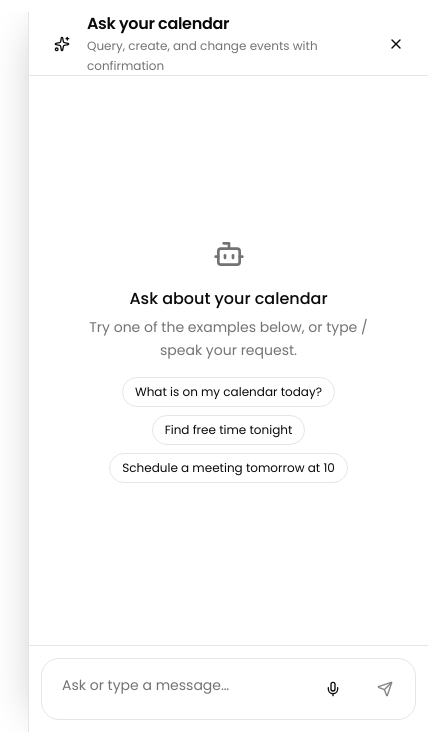
Test: AssistantPanel › does not allow confirming the same action twice
Type "Batalkan Marketing Sync" into the text box with placeholder "Ask or type a message…" at (176,689), box [50,667,303,711]
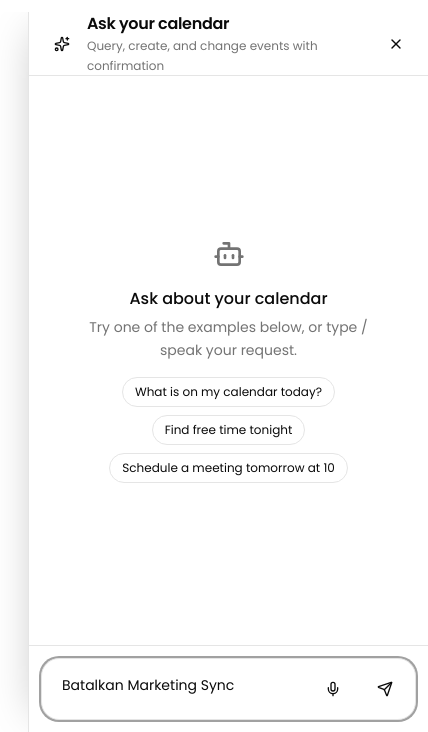
Click the button named "Send" at (385,689), box [363,667,407,711]
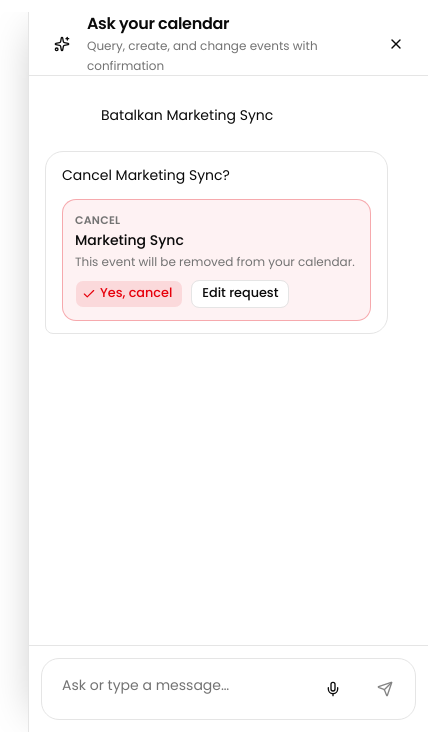
Click the button "Yes, cancel" at (129,294), box [75,280,183,308]
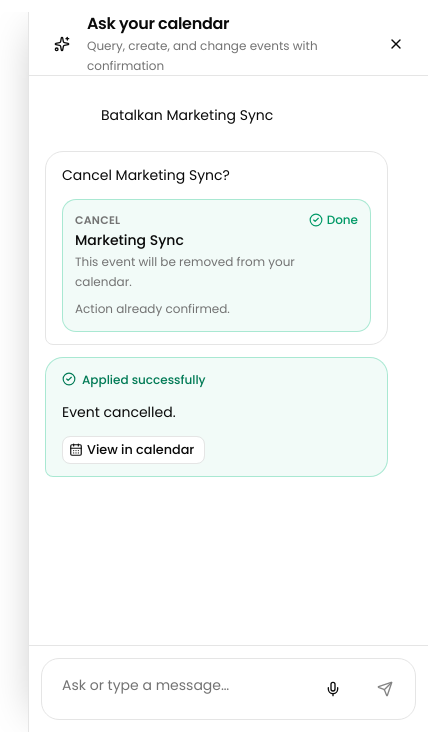
Expected: the text "Action already confirmed." is shown, [75,300,230,317]
Expected: the button "Yes, cancel" is gone
